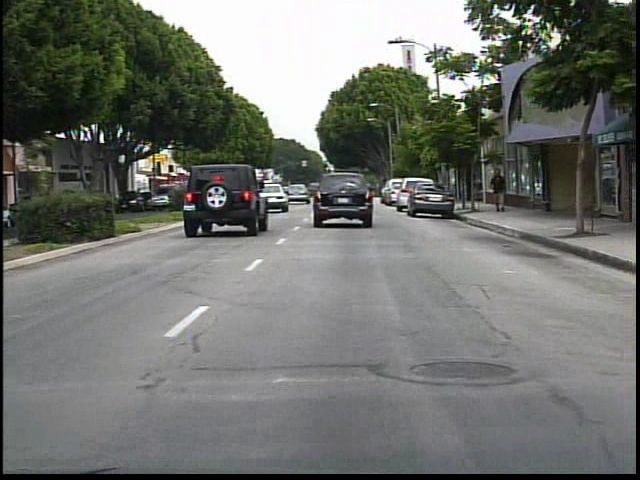person: (487, 166, 512, 217)
